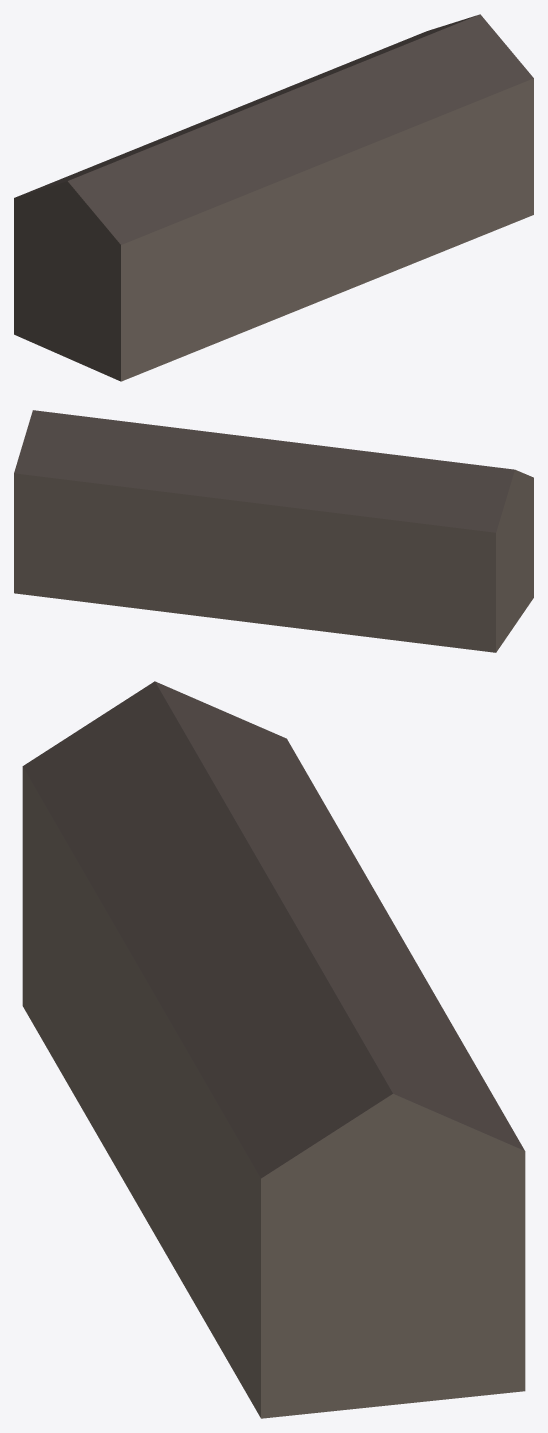
3 renders of one model, top to bottom at view 1: azimuth 30°, elevation 25°; view 2: azimuth 150°, elevation 25°; view 3: azimuth 270°, elevation 25°, orthographic. The views are drawn at different scales.
Visible parts, largest first — view 1: HP-w449064152; view 2: HP-w449064152; view 3: HP-w449064152.
Boxes of the visible parts, <box> form: HP-w449064152: <box>14,14,533,381</box>; HP-w449064152: <box>14,410,533,652</box>; HP-w449064152: <box>22,681,525,1418</box>.
Bounding box in the file's own units: 35.36 × 11.67 × 17.06.
